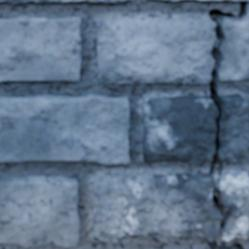brick: (0, 96, 129, 164), (0, 177, 79, 248), (0, 16, 80, 81), (14, 0, 126, 3)
broken_brick: (91, 173, 221, 244), (95, 18, 214, 84), (142, 95, 215, 165), (220, 171, 248, 242), (220, 93, 248, 162), (222, 18, 248, 81)
crack: (205, 0, 248, 248), (4, 0, 15, 4), (244, 130, 246, 149)
